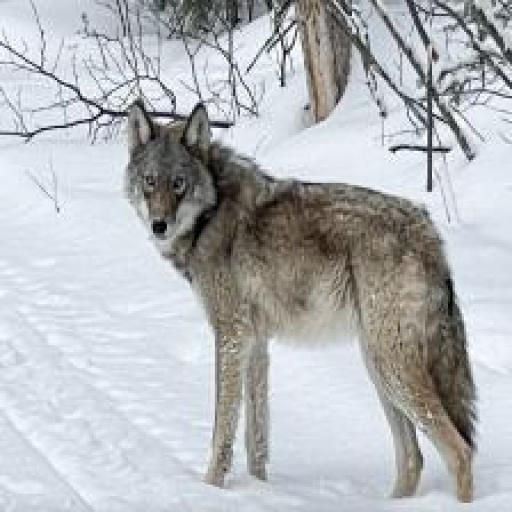wolf: (114, 103, 494, 507)
